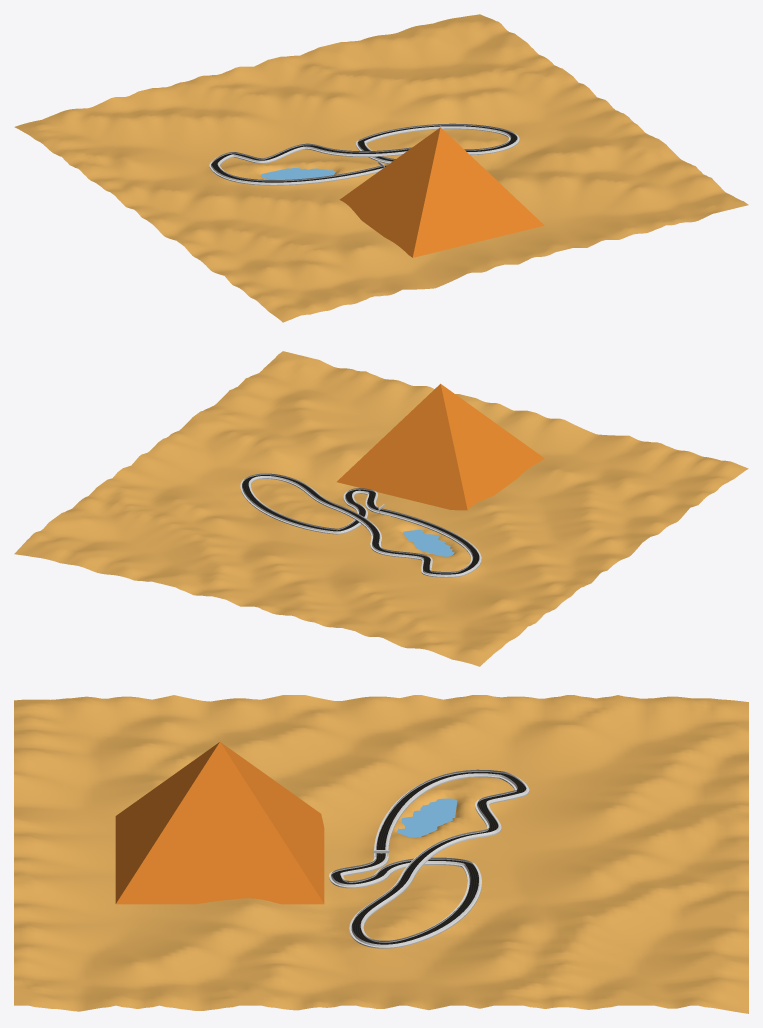
The model's file is level1.fbx.
3 views of the same model, one above another, from view 1: azimuth 30°, elevation 25°; view 2: azimuth 150°, elevation 25°; view 3: azimuth 270°, elevation 25° (orthographic). The views are drawn at different scales.
Visible parts, largest first — view 1: Plane.004, Plane.005, Cube.001, Cube, Plane.001, Plane.006; view 2: Plane.004, Plane.005, Plane.001, Cube.001, Cube, Plane.006; view 3: Plane.004, Plane.005, Plane.001, Cube, Cube.001, Plane.006.
Boxes of the visible parts, bbox=[...] form: Plane.004: bbox=[14, 14, 748, 322]; Plane.005: bbox=[339, 127, 544, 257]; Cube.001: bbox=[209, 126, 511, 185]; Cube: bbox=[217, 123, 519, 181]; Plane.001: bbox=[211, 125, 517, 182]; Plane.006: bbox=[261, 167, 335, 179]; Plane.004: bbox=[14, 351, 748, 666]; Plane.005: bbox=[337, 383, 544, 510]; Plane.001: bbox=[242, 475, 479, 574]; Cube.001: bbox=[248, 476, 481, 577]; Cube: bbox=[240, 473, 473, 573]; Plane.006: bbox=[403, 529, 454, 556]; Plane.004: bbox=[14, 695, 748, 1013]; Plane.005: bbox=[115, 742, 324, 904]; Plane.001: bbox=[332, 772, 526, 944]; Cube: bbox=[340, 773, 517, 948]; Cube.001: bbox=[329, 769, 529, 942]; Plane.006: bbox=[397, 798, 457, 837].
Bounding box in the file's own units: 120000 × 23489 × 120000.
